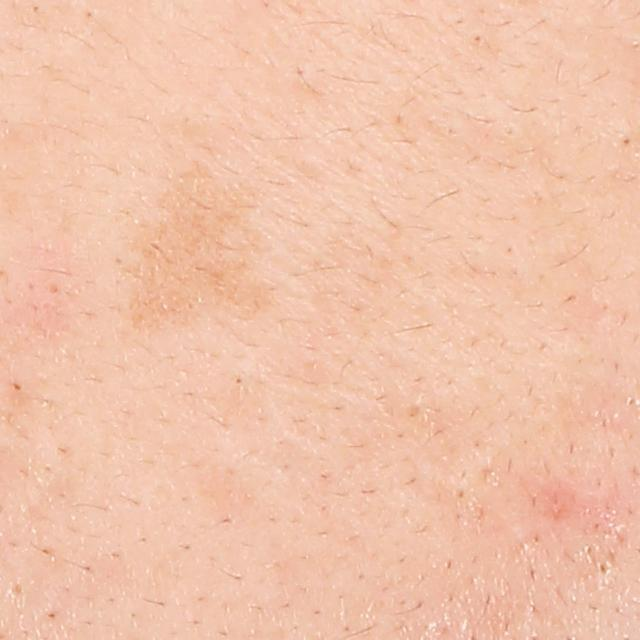comedo: (592, 554, 615, 582), (613, 128, 640, 150), (465, 28, 486, 54), (228, 371, 249, 390)
